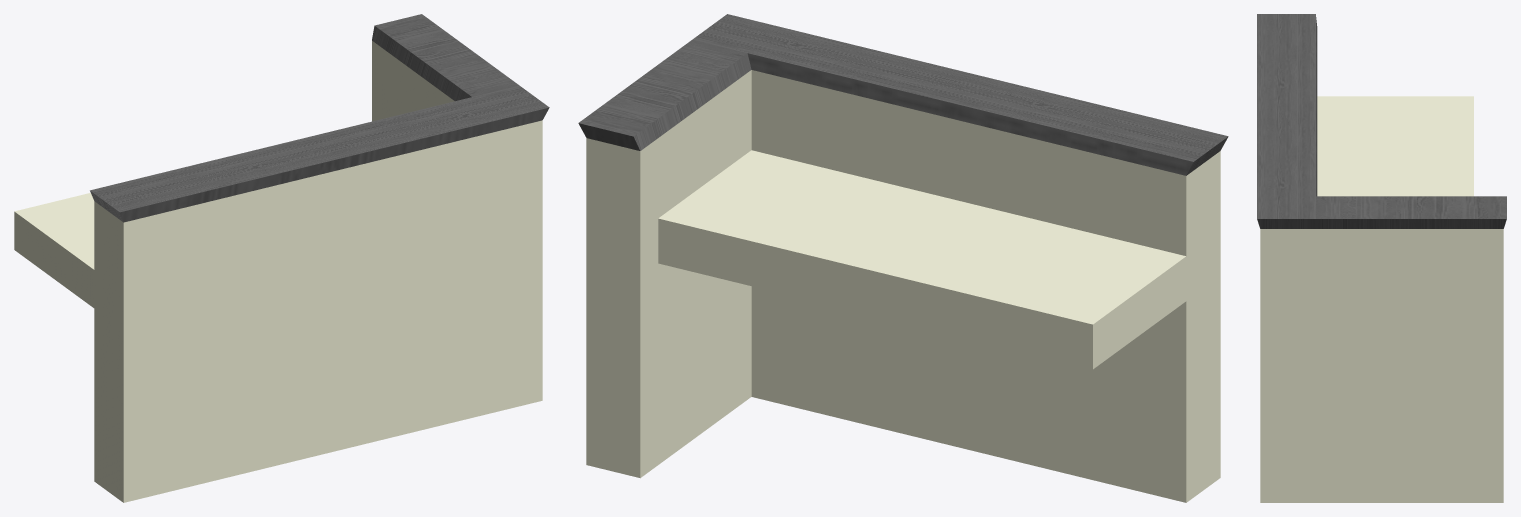
File: Store_Counter.fbx
3 renders of one model, left to right at view 1: azimuth 30°, elevation 25°; view 2: azimuth 150°, elevation 25°; view 3: azimuth 270°, elevation 25°, orthographic. The views are drawn at different scales.
Visible parts, largest first — view 1: pCube26; view 2: pCube26; view 3: pCube26.
Boxes of the visible parts, x1,y1,x2,y2 form: pCube26: (14,14,549,502); pCube26: (578,14,1228,502); pCube26: (1257,14,1506,502).
Size of the model in its own units: 9.18 by 5.98 by 4.73.
